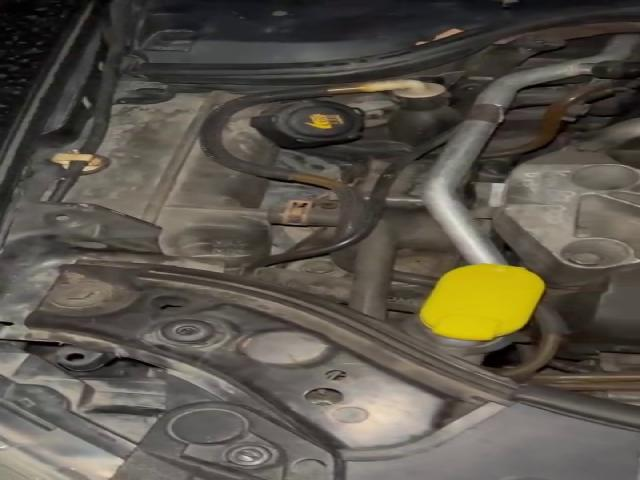antifreeze_tank: (68, 91, 307, 264), (223, 98, 364, 165)
